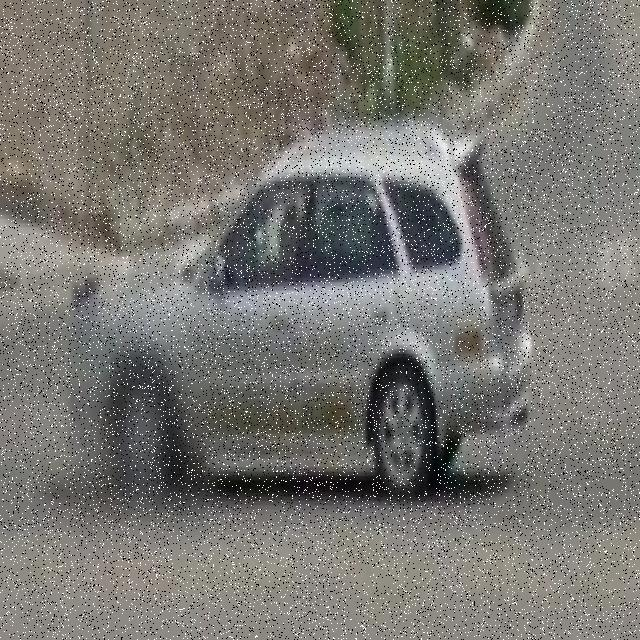cars: (79, 170, 539, 498)
